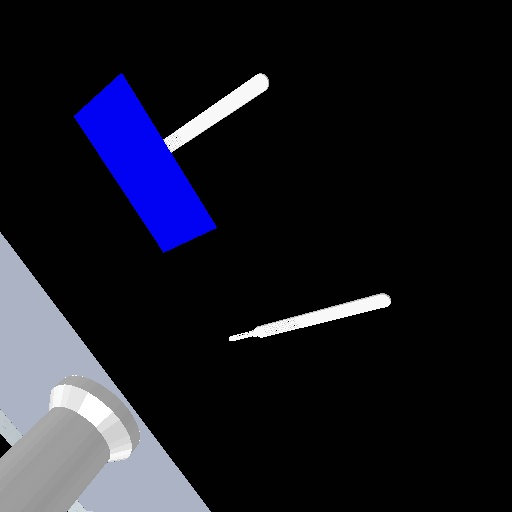bisturi: (159, 69, 273, 155), (225, 289, 396, 344)
